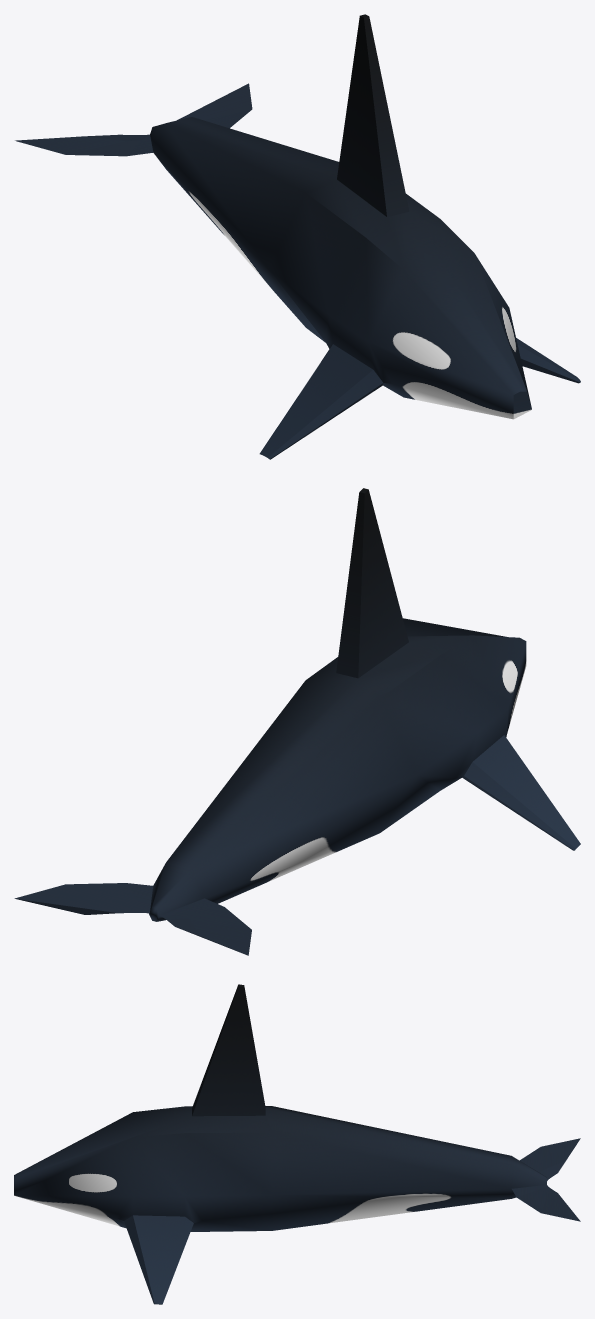
File: orcaStatue.fbx
The picture shows the model from 3 angles, top to bottom: view 1: azimuth 30°, elevation 25°; view 2: azimuth 150°, elevation 25°; view 3: azimuth 270°, elevation 25°; orthographic projection. The views are drawn at different scales.
Parts seen in each view (by area): view 1: orcaStatue; view 2: orcaStatue; view 3: orcaStatue.
Boxes of the visible parts, left/top/right/bottom form: orcaStatue: left=15, top=14, right=580, bottom=459; orcaStatue: left=14, top=488, right=580, bottom=955; orcaStatue: left=14, top=984, right=580, bottom=1304.
Size of the model in its own units: 9.92 by 10.84 by 21.1.
